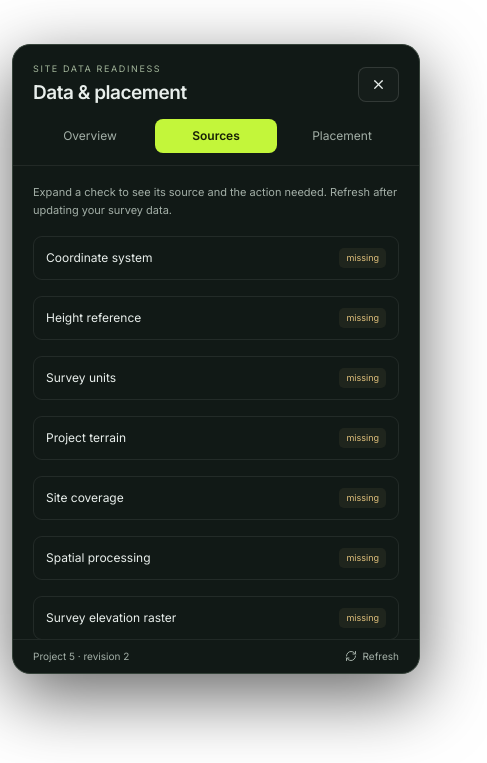
Test: site data panel › explains missing evidence and prevents unsupported placement requests
This screenshot has width=487, height=763.
Click the tab "Placement" at (342, 136), box [281, 119, 403, 153]
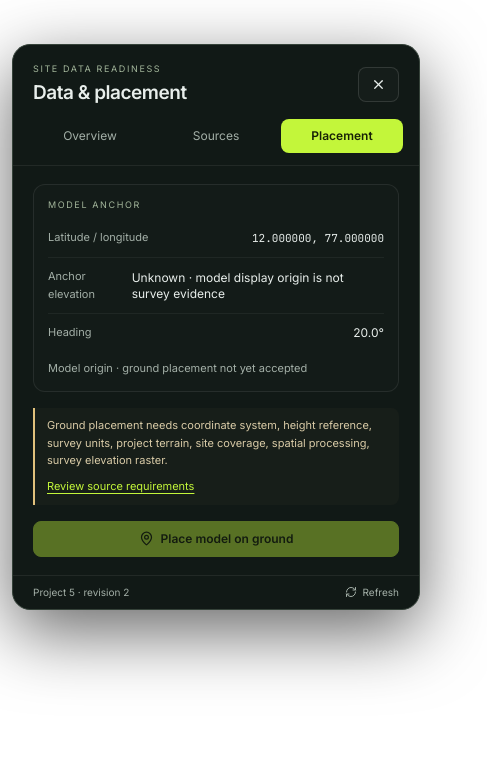
Expected: the button "Place model on ground" is disabled, [33, 521, 399, 557]
Expected: the text "Ground placement needs" is shown, [47, 418, 181, 432]
